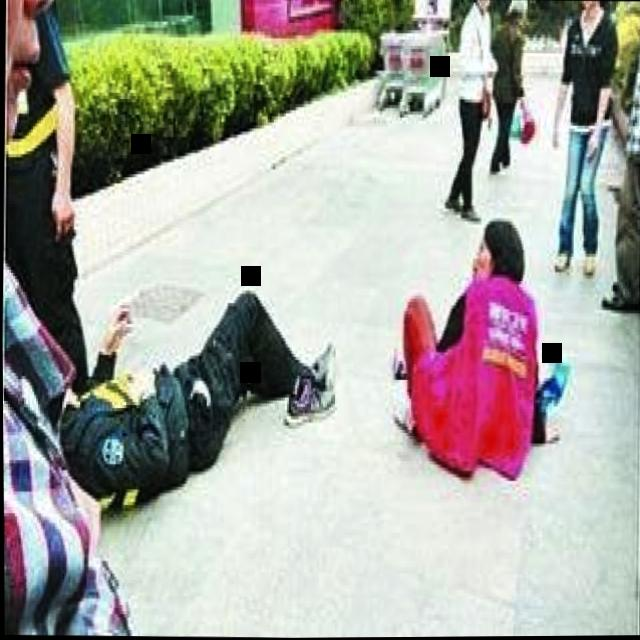Fall-Detected: (24, 245, 353, 515)
